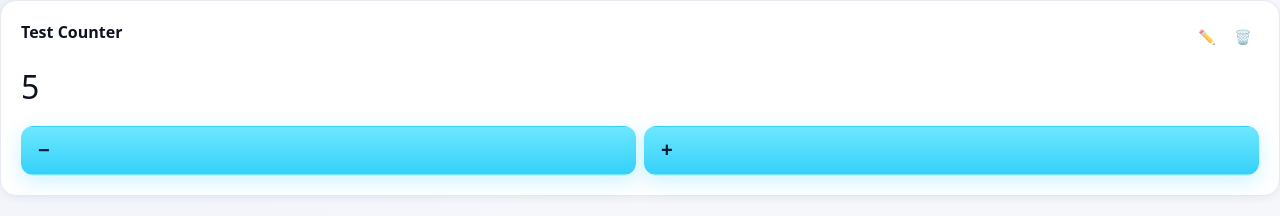
Counter Component › Rename functionality › should enter edit mode when Renombrar button is clicked
The image size is (1280, 216).
Click the button "✏️".
click(1207, 37)  # box x1=1191 y1=21 x2=1223 y2=53
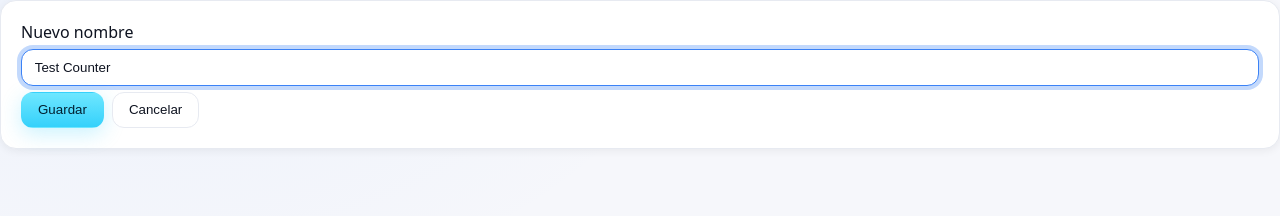
expect the button "Guardar" is shown: met, box x1=21 y1=92 x2=104 y2=128
expect the field labelled "Nuevo nombre" is shown: met, box x1=21 y1=49 x2=1259 y2=86
